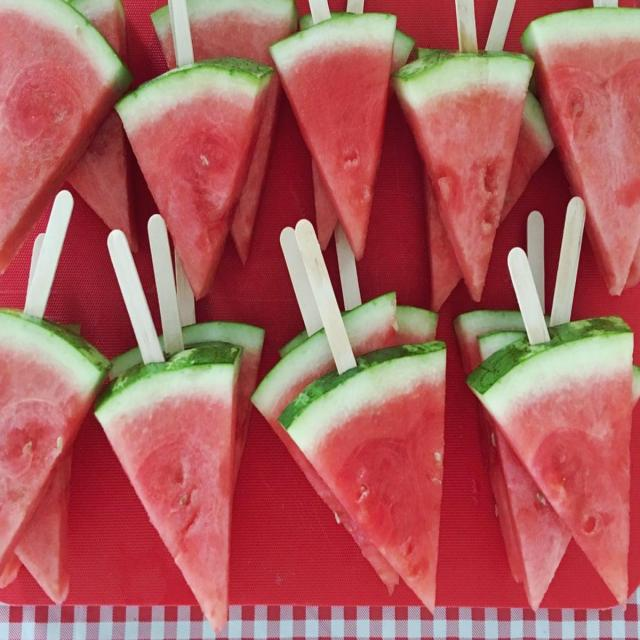watermelon: (458, 308, 632, 618), (268, 324, 450, 612), (90, 342, 242, 640), (114, 53, 274, 301), (0, 2, 139, 277), (392, 40, 528, 308), (271, 4, 398, 267), (0, 306, 108, 597)
